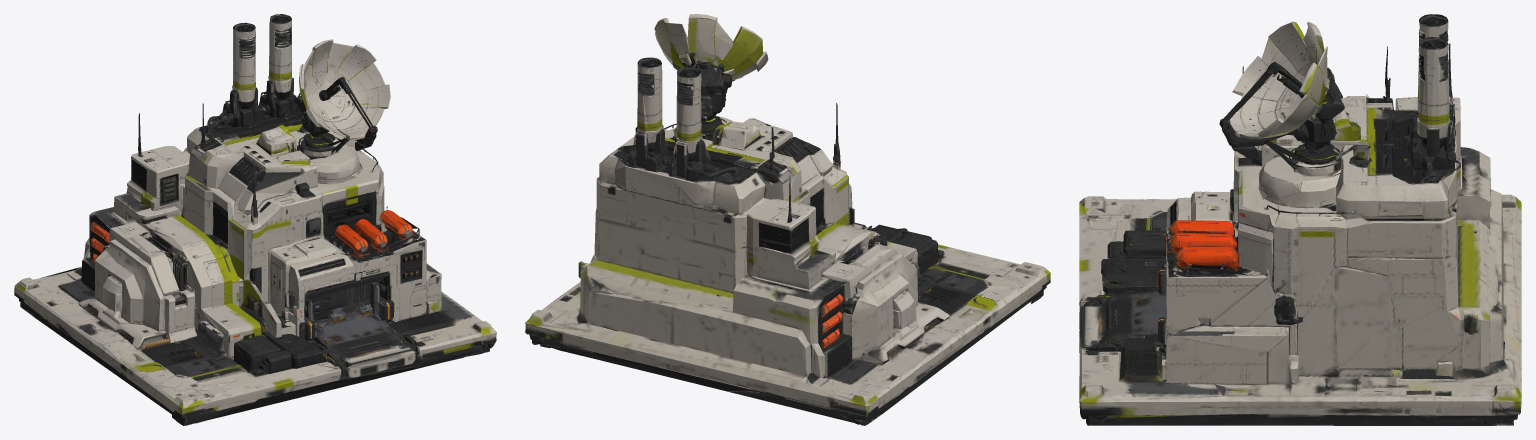
File: v4-relay.glb
3 views of the same model, side by side, from view 1: azimuth 30°, elevation 25°; view 2: azimuth 150°, elevation 25°; view 3: azimuth 270°, elevation 25° (orthographic). The views are drawn at different scales.
Parts seen in each view (by area): view 1: relay_body_00; view 2: relay_body_00; view 3: relay_body_00.
Boxes of the visible parts, bbox=[...] form: relay_body_00: bbox=[14, 14, 496, 425]; relay_body_00: bbox=[525, 14, 1050, 425]; relay_body_00: bbox=[1079, 14, 1521, 425].
Bounding box in the file's own units: 1 × 0.8093 × 0.9302.
1 material, 1 textured.
